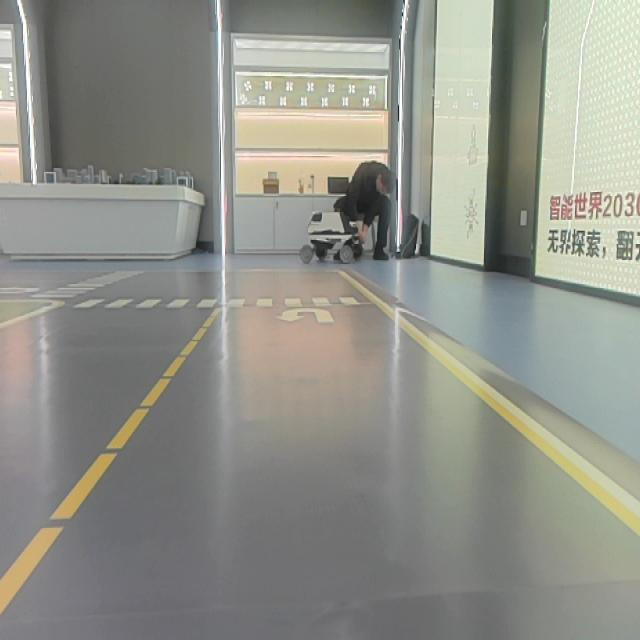left_lane: (0, 303, 223, 609)
right_lane: (346, 273, 638, 535), (2, 303, 59, 332)
